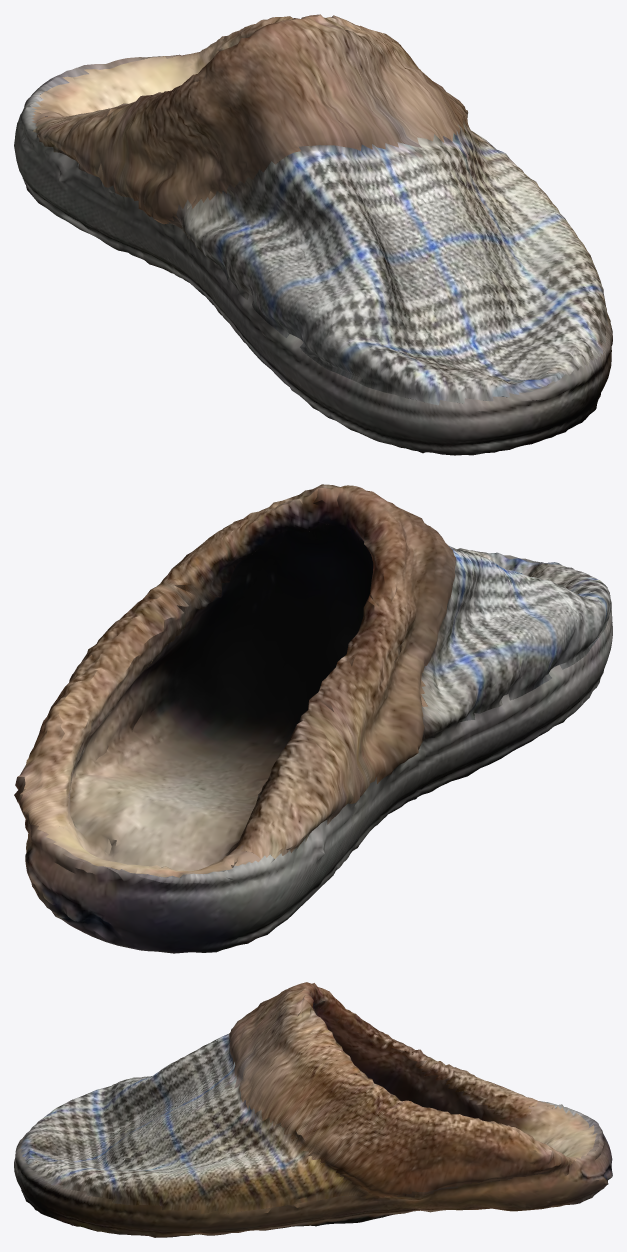
The model's file is worn-shoe.glb.
The picture shows the model from 3 angles, top to bottom: view 1: azimuth 30°, elevation 25°; view 2: azimuth 150°, elevation 25°; view 3: azimuth 270°, elevation 25°; orthographic projection. The views are drawn at different scales.
Parts seen in each view (by area): view 1: Object_0; view 2: Object_0; view 3: Object_0.
Boxes of the visible parts, <box> form: Object_0: <box>14,14,612,455</box>; Object_0: <box>14,484,612,953</box>; Object_0: <box>14,982,612,1237</box>.
Bounding box in the file's own units: 0.1184 × 0.1053 × 0.29.
Materials: 1 (1 with a texture image).
